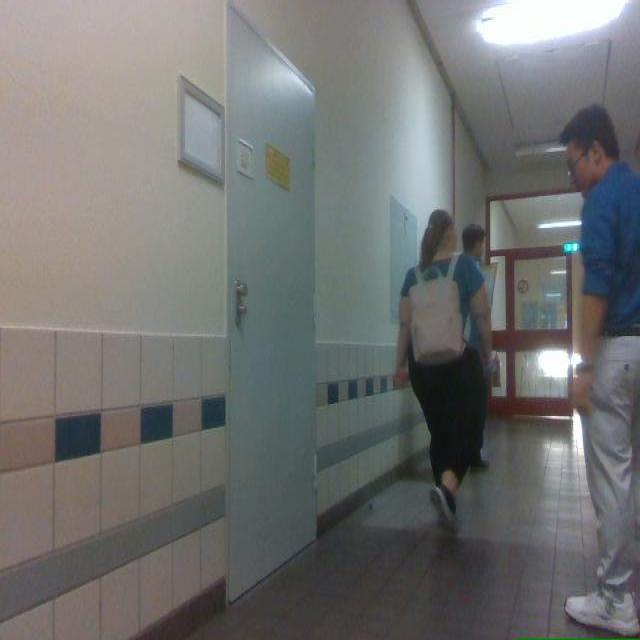humans: (561, 106, 639, 635), (395, 210, 491, 523), (471, 367, 491, 469), (462, 224, 485, 263)
objects: (409, 256, 464, 365)
